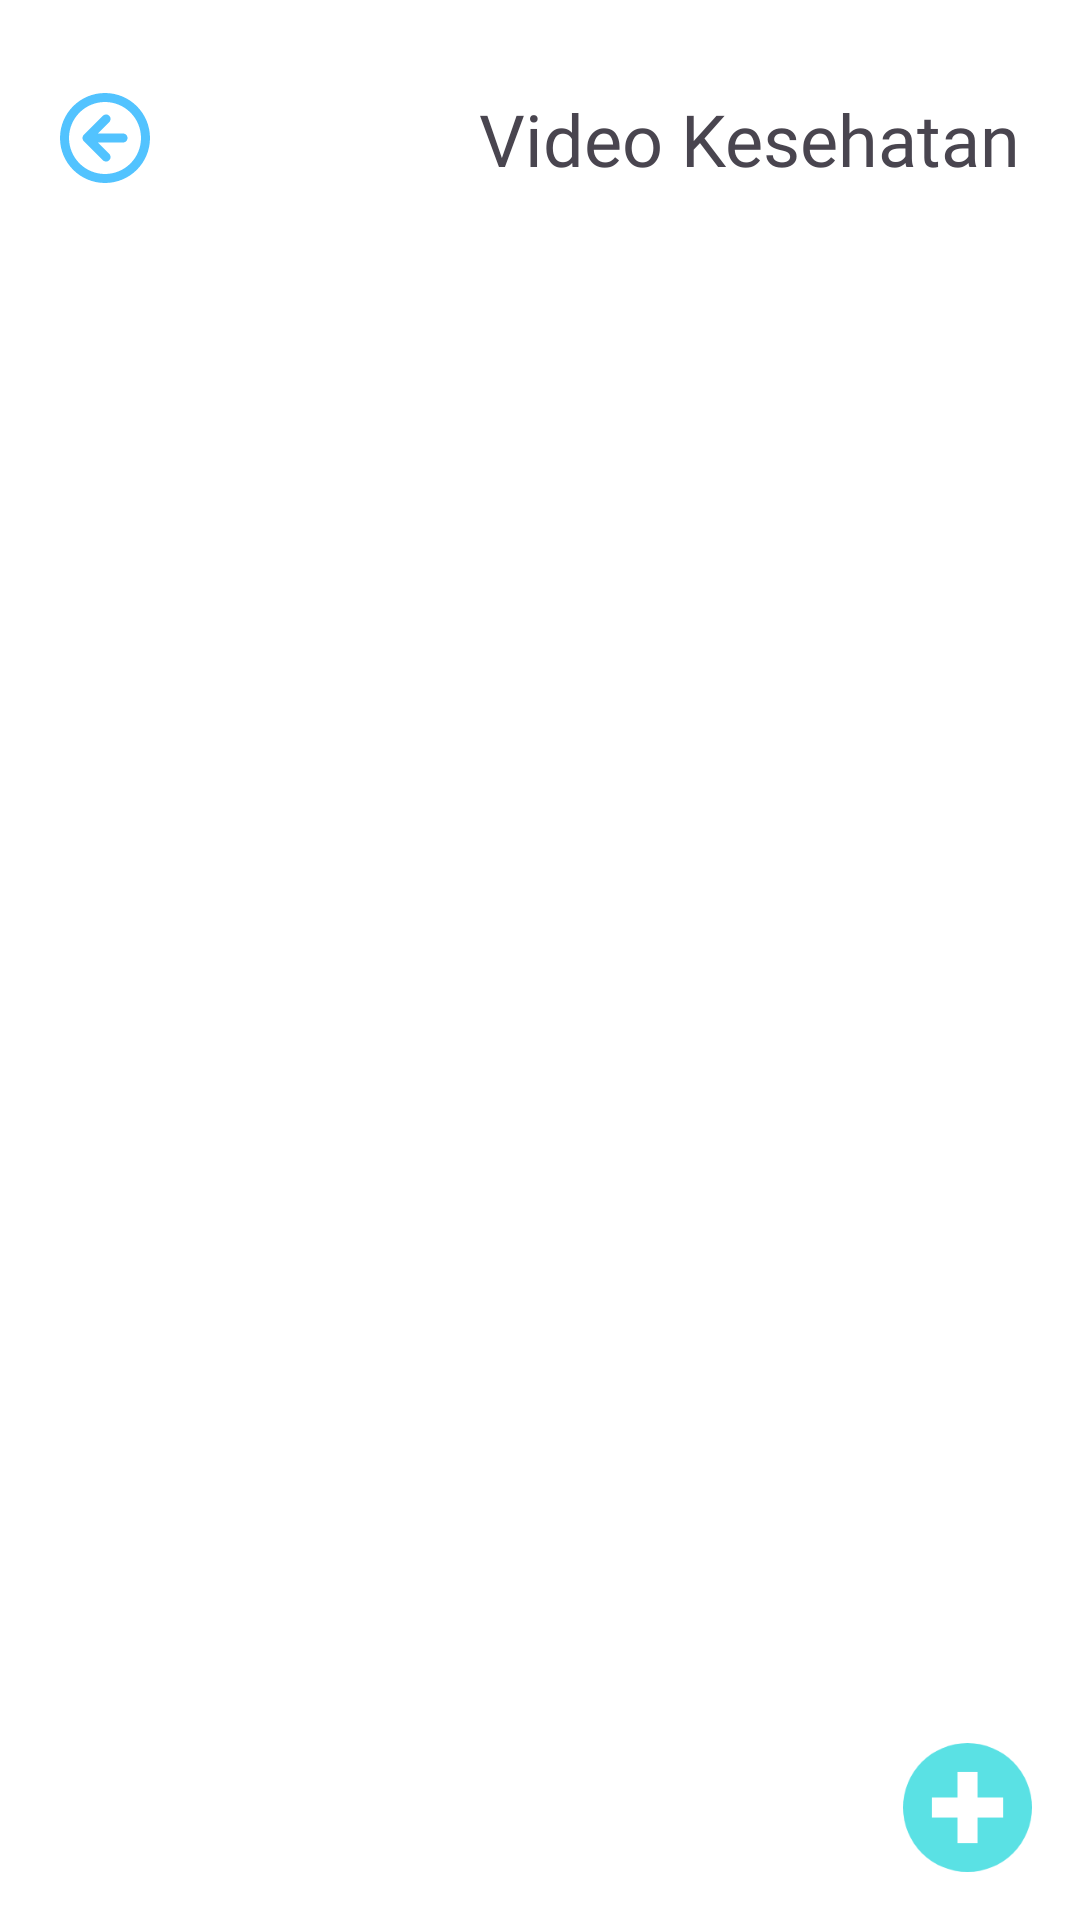

Named icons in this screenshot (1080w x 1920h) and their bounding boxes, (x1, y1, x2, y2):
arrow left: (60, 93, 150, 183)
floating: (903, 1743, 1032, 1872)
